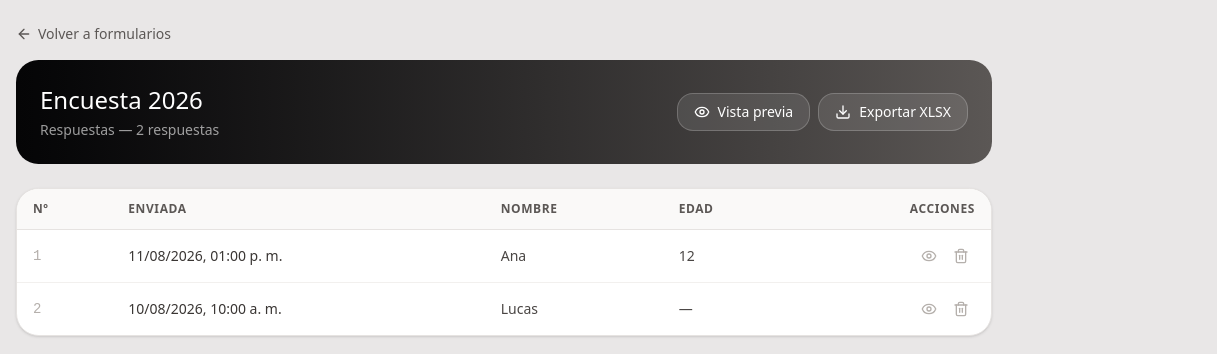
Test: RespuestasClient › deletes a response after confirmation and removes the row
What coordinates should you click on to do the following:
click the button named "Borrar respuesta" in the row of "11/08/2026, 01:00 p. m."
I would click on:
 (961, 256)
Its box is [947,242,975,270].
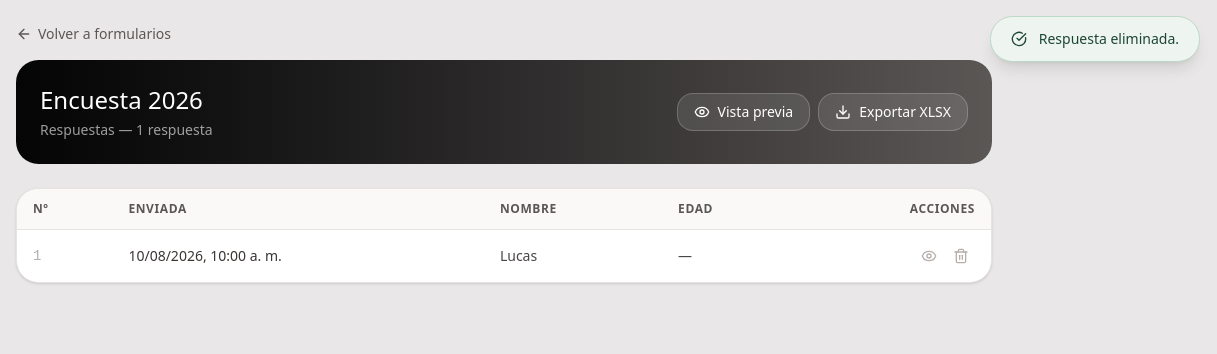
Expected: the text "Respuesta eliminada." is shown, [990,16,1200,62]
Expected: the text "Ana" is gone
Expected: the text "Respuestas — 1 respuesta" is shown, [40,120,213,140]
